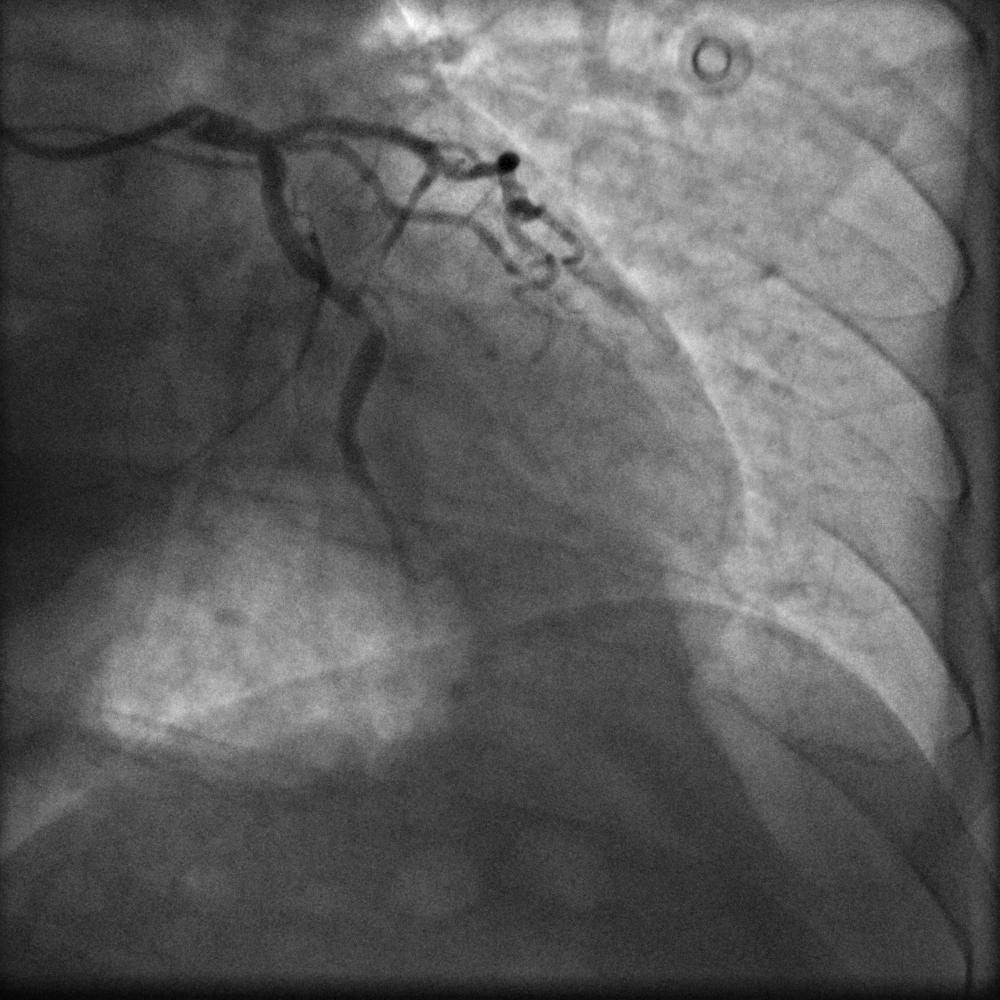Stenosis: (347, 293, 390, 347)
